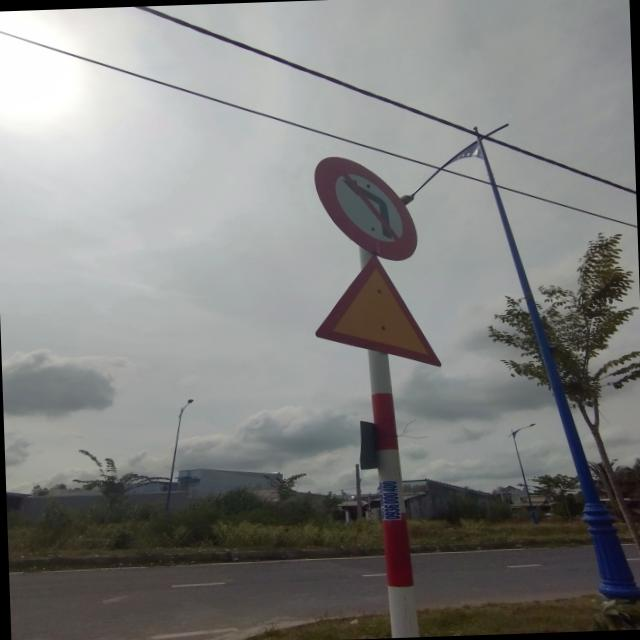Cam_Re_Trai: (312, 152, 420, 264)
Gioi_Han_Toc_Do_25: (311, 250, 441, 372)
